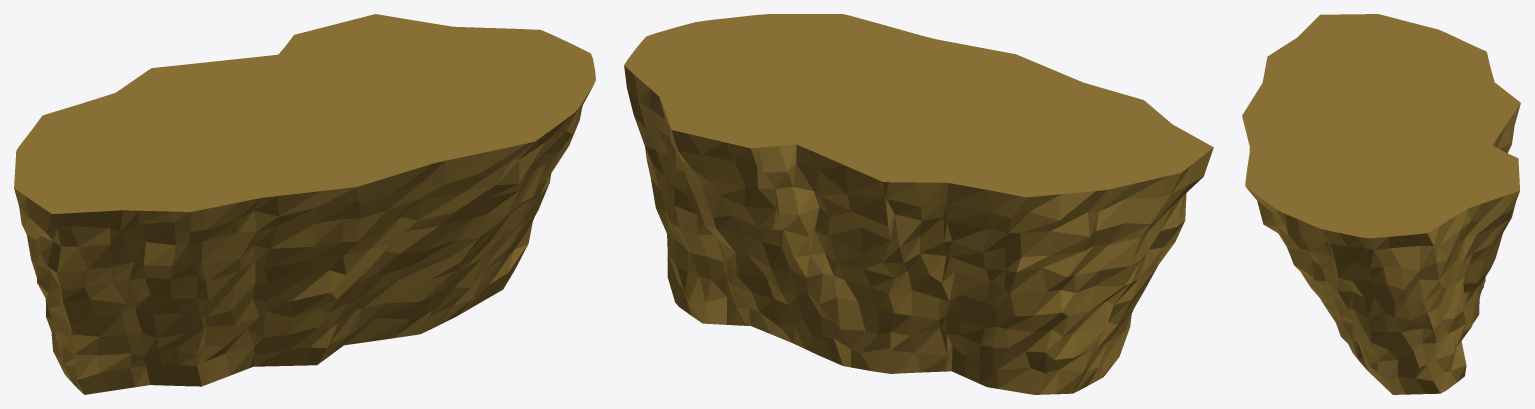
File: cliff.fbx
The picture shows the model from 3 angles, left to right: view 1: azimuth 30°, elevation 25°; view 2: azimuth 150°, elevation 25°; view 3: azimuth 270°, elevation 25°; orthographic projection. The views are drawn at different scales.
Parts seen in each view (by area): view 1: 로프트, 캡_1; view 2: 로프트, 캡_1; view 3: 캡_1, 로프트.
Part boxes in pixels (x1=…): 로프트: x1=14, y1=87, x2=592, y2=394; 캡_1: x1=14, y1=14, x2=595, y2=213; 로프트: x1=624, y1=65, x2=1213, y2=394; 캡_1: x1=624, y1=14, x2=1213, y2=197; 캡_1: x1=1242, y1=14, x2=1520, y2=238; 로프트: x1=1246, y1=103, x2=1520, y2=394.
Bounding box in the file's own units: 745 × 287 × 392.
